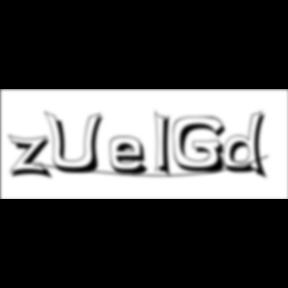G: (174, 116, 233, 176)
U: (44, 110, 110, 176)
d: (223, 110, 273, 182)
e: (110, 135, 156, 178)
l: (156, 108, 179, 182)
z: (8, 134, 58, 182)
